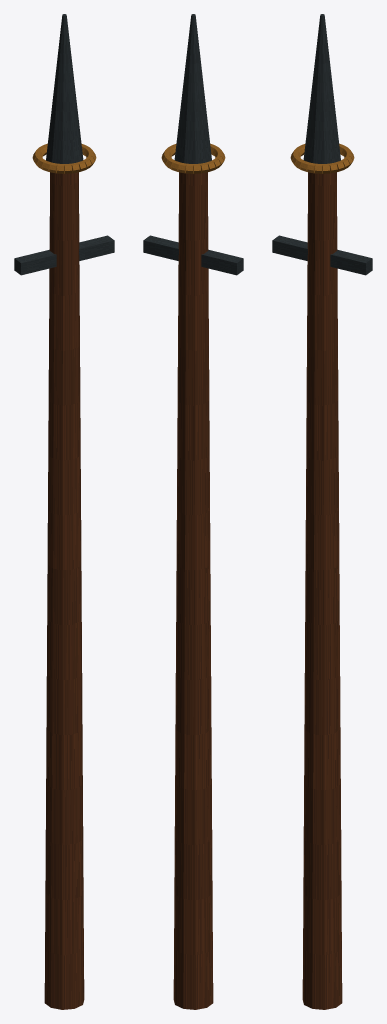
The model's file is SM_boarding_pike.gltf.
3 renders of one model, left to right at view 1: azimuth 30°, elevation 25°; view 2: azimuth 150°, elevation 25°; view 3: azimuth 330°, elevation 25°, orthographic.
Visible parts, largest first — view 1: root; view 2: root; view 3: root.
Boxes of the visible parts, <box> form: root: <box>14,14,114,1009</box>; root: <box>143,14,243,1009</box>; root: <box>272,14,372,1009</box>.
Bounding box in the file's own units: 0.24 × 2.42 × 0.1418.
Materials: 3 (3 with a texture image).
